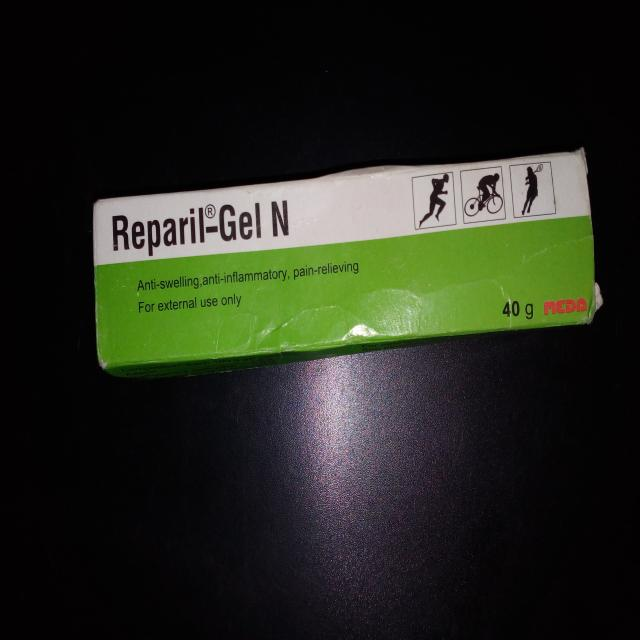Medicine: (90, 144, 604, 382)
